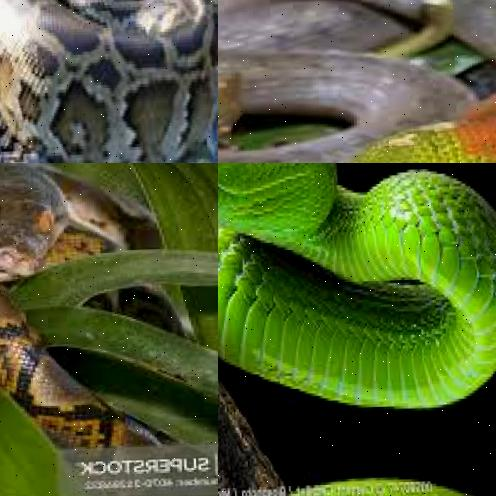snake: (218, 163, 496, 496), (0, 163, 193, 437), (218, 0, 496, 163), (0, 0, 218, 163)
